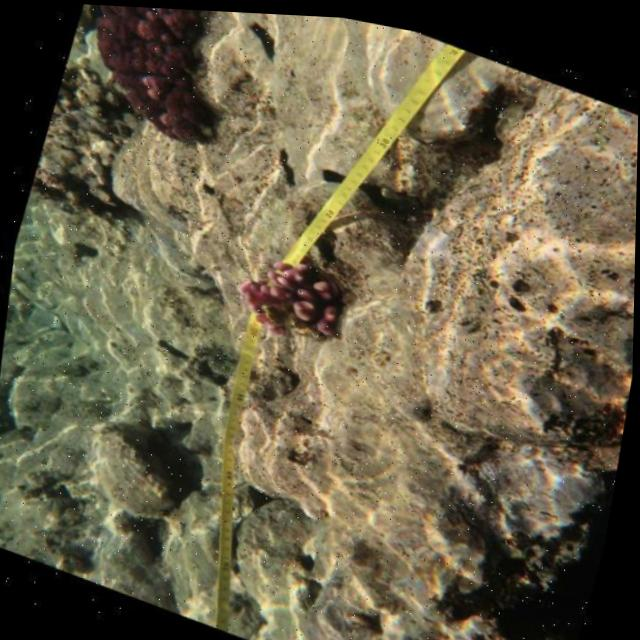Healthy Coral: (47, 2, 267, 163), (213, 226, 365, 360)
